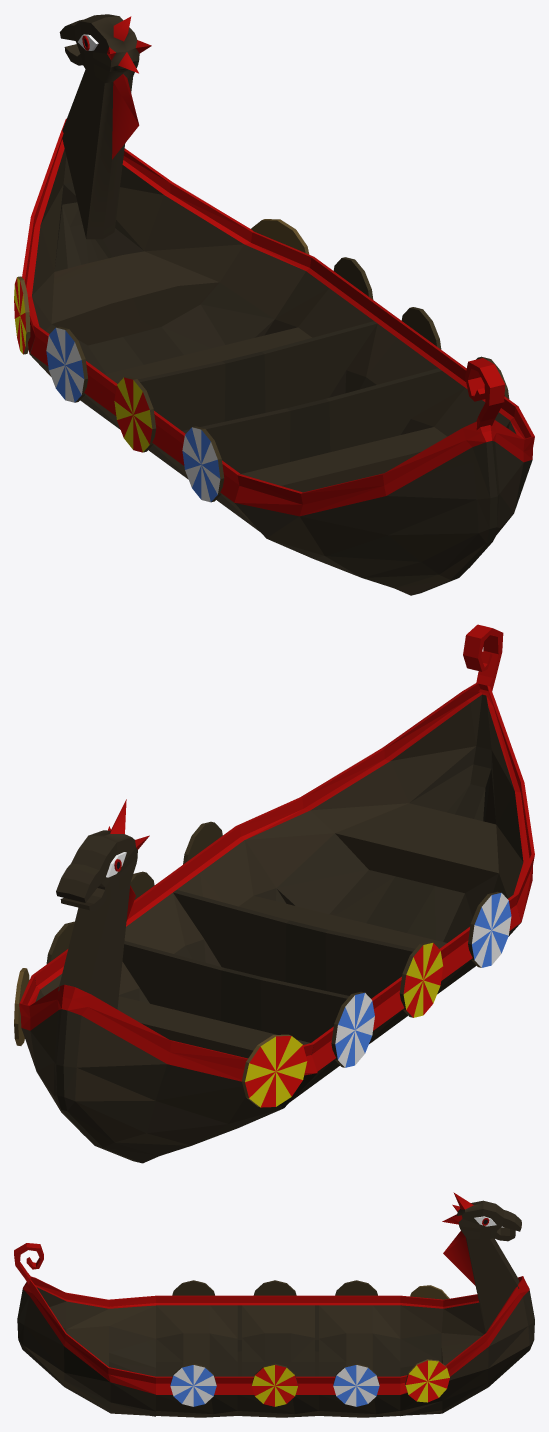
The model's file is Ship_02.fbx.
3 views of the same model, one above another, from view 1: azimuth 30°, elevation 25°; view 2: azimuth 150°, elevation 25°; view 3: azimuth 270°, elevation 25° (orthographic). The views are drawn at different scales.
Parts seen in each view (by area): view 1: Ship_02; view 2: Ship_02; view 3: Ship_02.
Boxes of the visible parts, box(x1,y1,x2,y2) form: Ship_02: box(14, 14, 534, 595); Ship_02: box(14, 624, 534, 1163); Ship_02: box(14, 1192, 534, 1417).
Size of the model in its own units: 935 by 1148 by 2431.
